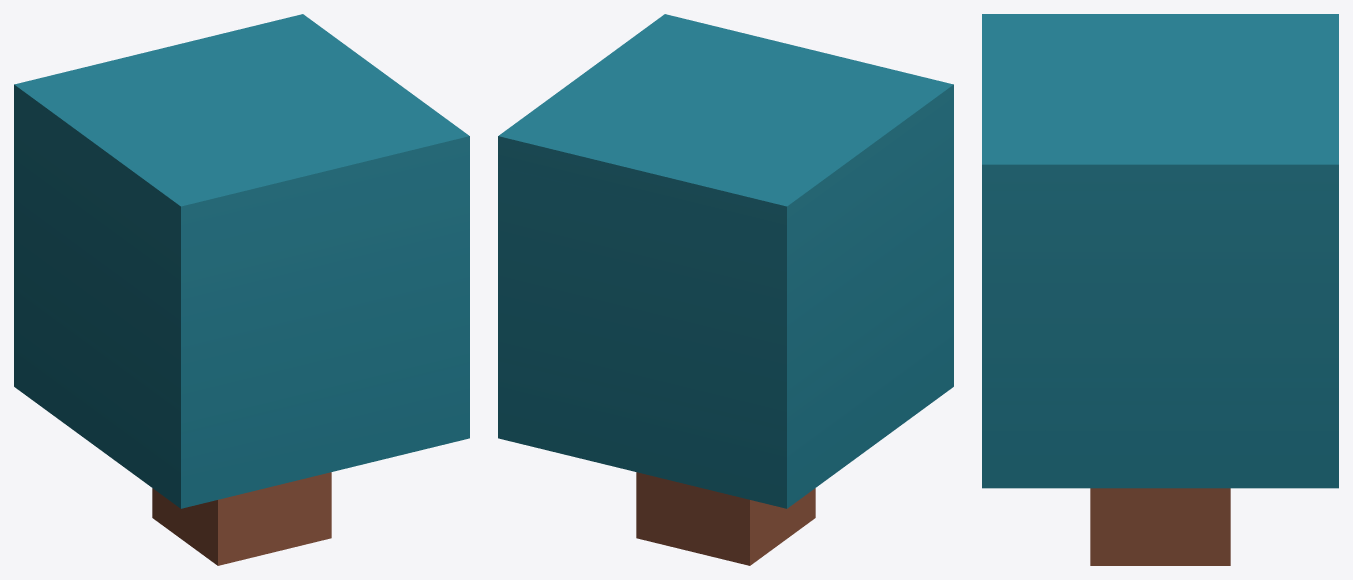
File: Bush_8_gradient_blue_pal.fbx
3 renders of one model, left to right at view 1: azimuth 30°, elevation 25°; view 2: azimuth 150°, elevation 25°; view 3: azimuth 270°, elevation 25°, orthographic. The views are drawn at different scales.
Parts seen in each view (by area): view 1: Bush_8_gradient_blue_pal; view 2: Bush_8_gradient_blue_pal; view 3: Bush_8_gradient_blue_pal.
Boxes of the visible parts, x1,y1,x2,y2 form: Bush_8_gradient_blue_pal: (14,14,469,565); Bush_8_gradient_blue_pal: (498,14,953,565); Bush_8_gradient_blue_pal: (982,14,1338,565).
Size of the model in its own units: 38.7 by 53.49 by 38.7.
